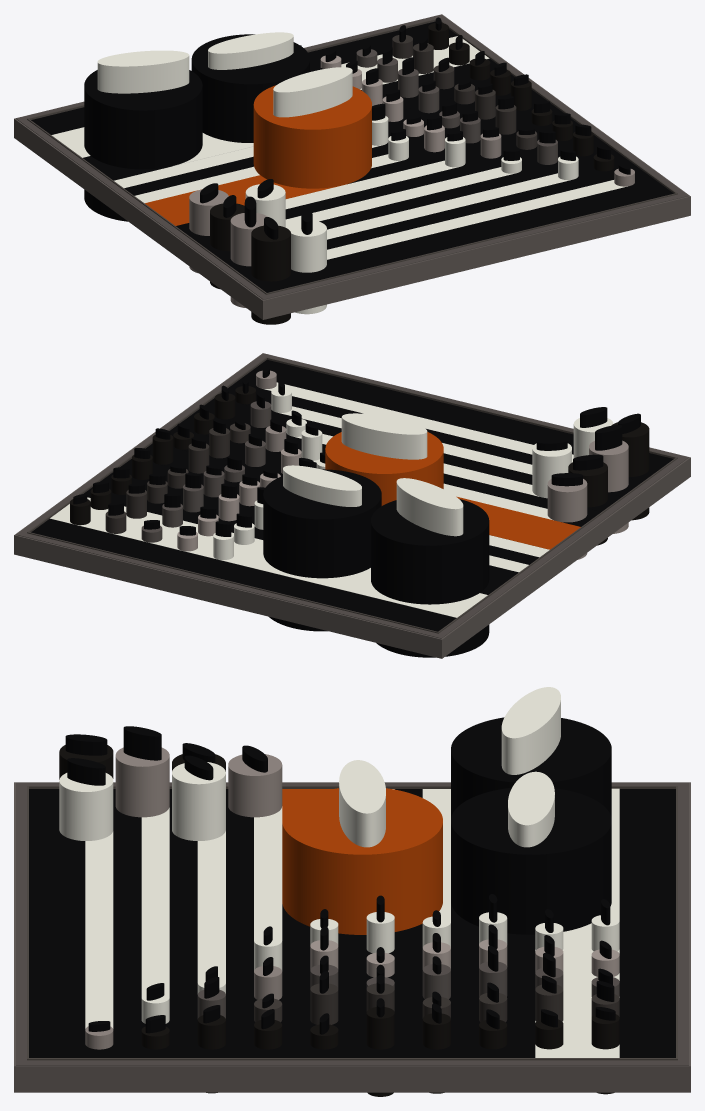
Rendered from KoruTawa v28 2024-03-05 op.473.glb.
3 renders of one model, top to bottom at view 1: azimuth 30°, elevation 25°; view 2: azimuth 150°, elevation 25°; view 3: azimuth 270°, elevation 25°, orthographic. The views are drawn at different scales.
Visible parts, largest first — view 1: Frame_3, 1_WA 13 P_1-2, 1_WA 7 P_1-1, Bottom Bound, Frame_2, 1_WA 13 P_2-3, 1_WA 13 P_1-2 IN, Line_1, Line_0, 1_WA 7 P_1-1 IN, Frame_1, Line_3 (+34 smaller); view 2: Frame_3, 1_WA 13 P_1-2, 1_WA 13 P_2-3, Frame_2, Bottom Bound, 1_WA 13 P_UCL, Line_19, 1_WA 7 P_1-1, Top Bound, Frame_1, 1_WA 7 P_1-1 IN, 1_WA 13 P_1-2 IN (+36 smaller); view 3: Frame_3, 1_WA 7 P_1-1, 1_WA 13 P_2-3, Bottom Bound, Frame_2, 1_WA 13 P_1-2, 1_WA 13 P_RCL, Top Bound, Line_19, Line_1, Line_5, Line_3 (+39 smaller).
Boxes of the visible parts, x1,y1,x2,y2 form: Frame_3: (14, 14, 690, 319); 1_WA 13 P_1-2: (84, 70, 202, 221); 1_WA 7 P_1-1: (253, 85, 371, 188); Bottom Bound: (248, 180, 673, 292); Frame_2: (16, 14, 688, 299); 1_WA 13 P_2-3: (191, 34, 309, 142); 1_WA 13 P_1-2 IN: (97, 50, 189, 93); Line_1: (228, 164, 644, 271); Line_0: (327, 180, 627, 259); 1_WA 7 P_1-1 IN: (273, 67, 352, 117); Frame_1: (27, 19, 677, 294); Line_3: (207, 149, 623, 256); Frame_3: (14, 353, 690, 658); 1_WA 13 P_1-2: (371, 499, 489, 657); 1_WA 13 P_2-3: (263, 469, 381, 631); Frame_2: (16, 353, 688, 638); Bottom Bound: (246, 359, 673, 473); 1_WA 13 P_UCL: (50, 497, 487, 617); Line_19: (40, 519, 456, 625); 1_WA 7 P_1-1: (325, 432, 443, 505); Top Bound: (31, 526, 446, 631); Frame_1: (27, 357, 677, 633); 1_WA 7 P_1-1 IN: (341, 413, 427, 459); 1_WA 13 P_1-2 IN: (396, 478, 463, 536); Frame_3: (14, 782, 690, 1092); 1_WA 7 P_1-1: (282, 788, 442, 934); 1_WA 13 P_2-3: (451, 787, 611, 934); Bottom Bound: (29, 789, 85, 1057); Frame_2: (16, 782, 688, 1065); 1_WA 13 P_1-2: (451, 717, 611, 817); 1_WA 13 P_RCL: (451, 903, 535, 1057); Top Bound: (647, 789, 675, 1057); Line_19: (619, 789, 647, 1057); Line_1: (113, 789, 141, 1057); Line_5: (226, 789, 253, 1057); Line_3: (169, 789, 197, 1057).
Size of the model in its own units: 11.95 by 3.71 by 12.04.
